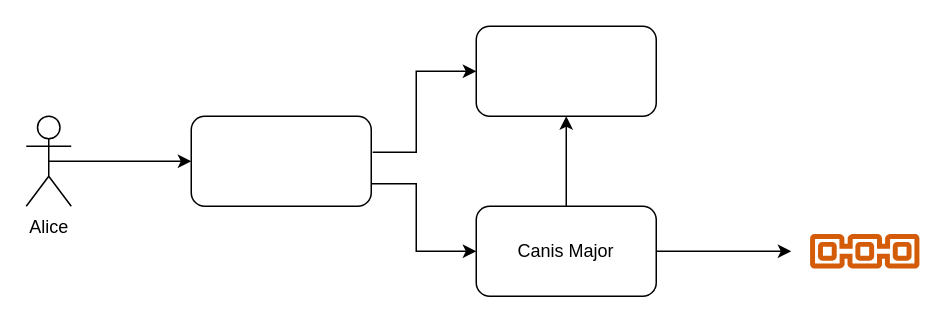
Image size: 950x323. Some labels were removed from this diagram. The shapes that lost their labels are listed below. From the top down, each one's centre as x and y in pixels, then its label:
At (565,70): "Context Broker".
At (280,160): "Client-Application".
